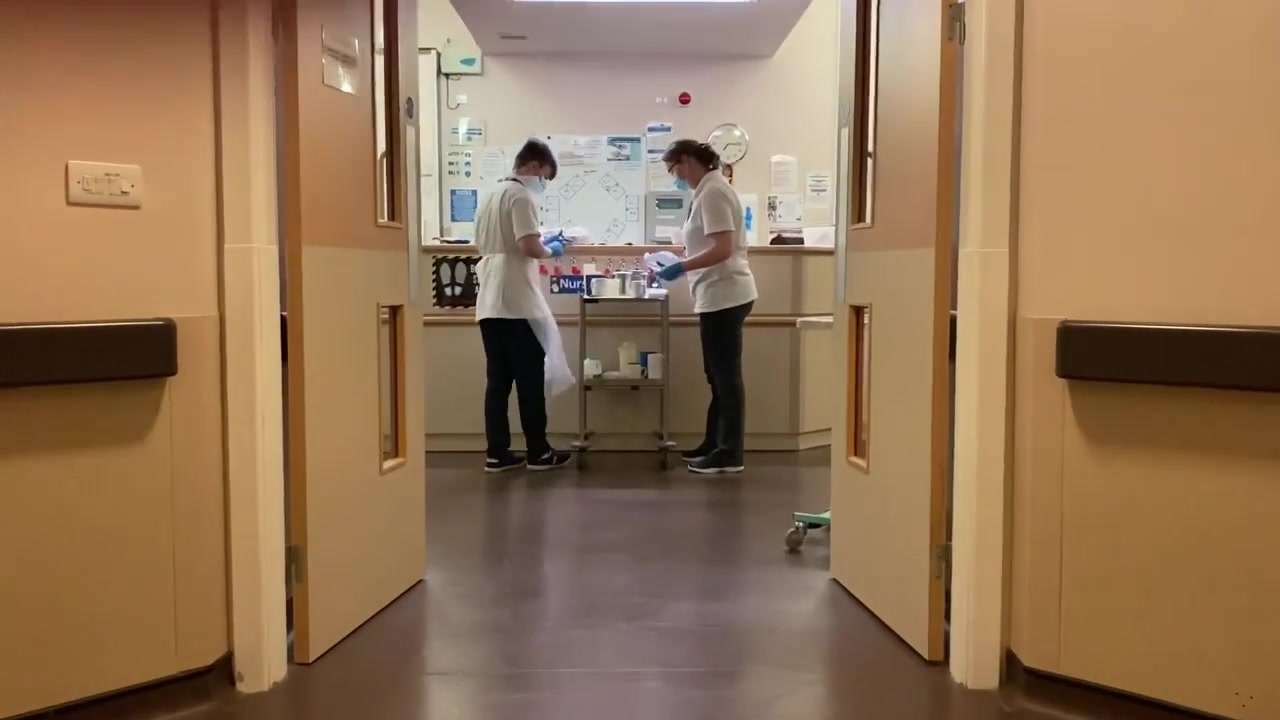hallway_assist_bar: (1053, 320, 1280, 391), (1, 315, 178, 389)
light_switch: (66, 160, 141, 207)
staff: (661, 139, 758, 474), (475, 138, 563, 472)
utility_cart: (575, 283, 670, 471)
